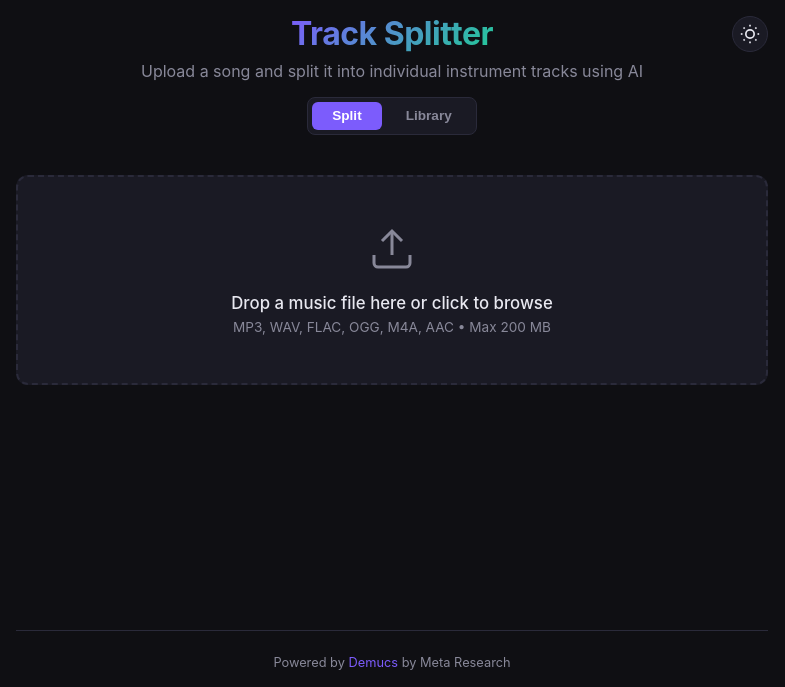
Test: App › library displays jobs from API
The image size is (785, 687).
Click the tab "Library". click: (429, 116)
box: [386,102,472,130]
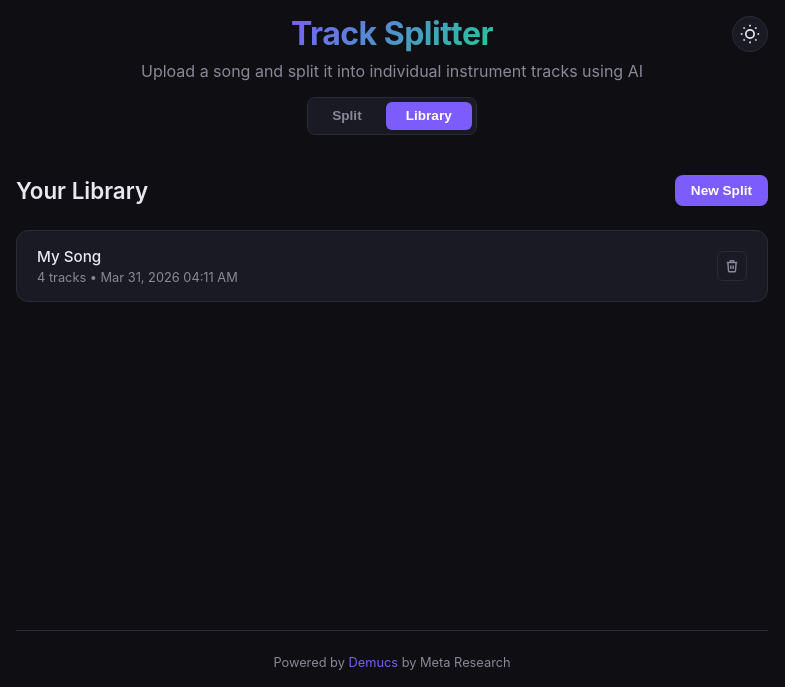
Check: the text "My Song" is shown, box [37,247,101,266]
Check: the text "4 tracks • Mar 31, 2026 04:11 AM" is shown, box [37,270,238,285]
